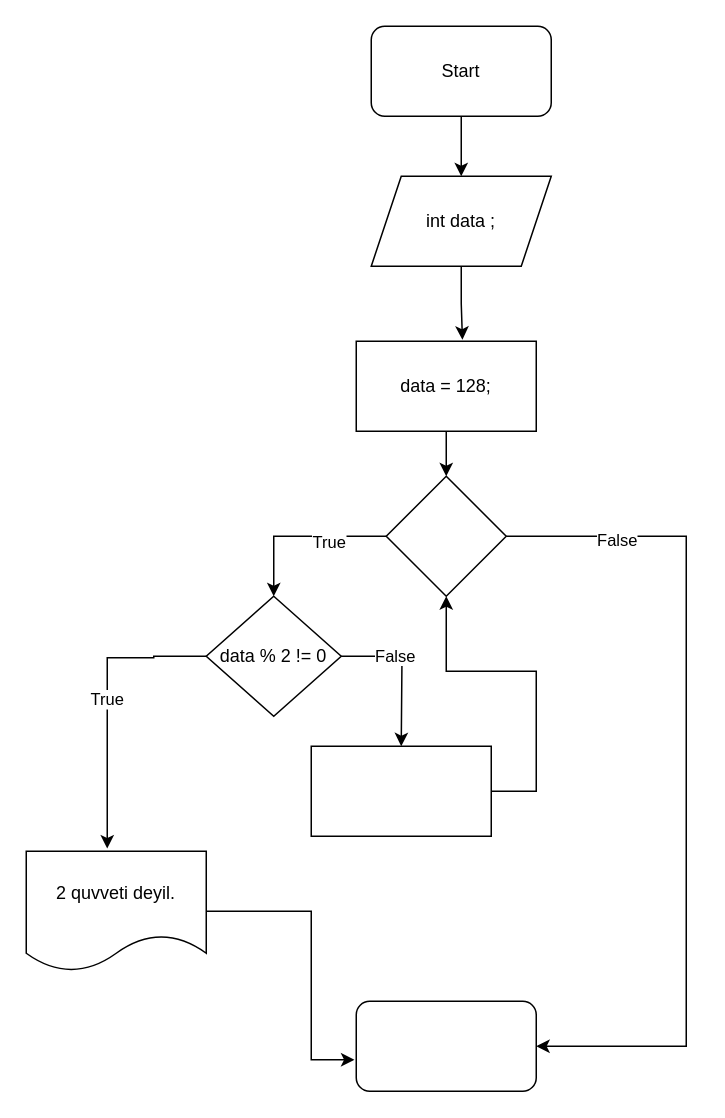
Image size: 725x1118. Some labels were removed from this diagram. The centre of each missing label's shape, as x and y in pixels:
"data/=2" goes at [400,790].
"data>0" goes at [445,535].
"END" goes at [445,1045].
